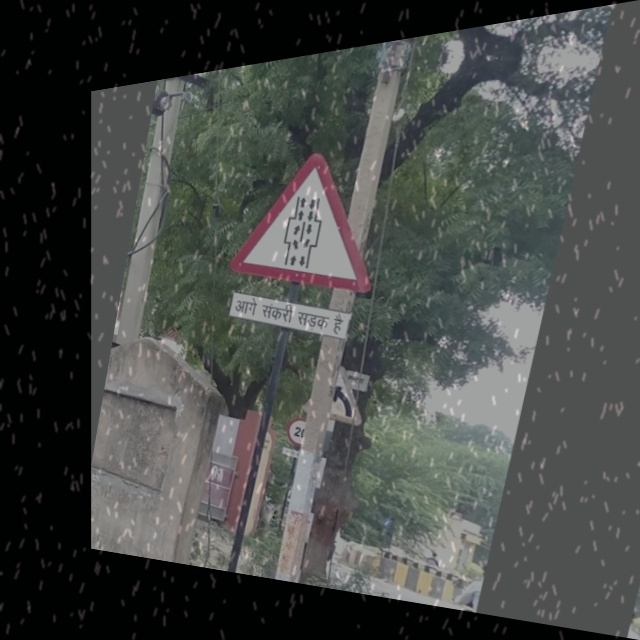Narrow_Road_Ahead: (224, 132, 393, 298)
